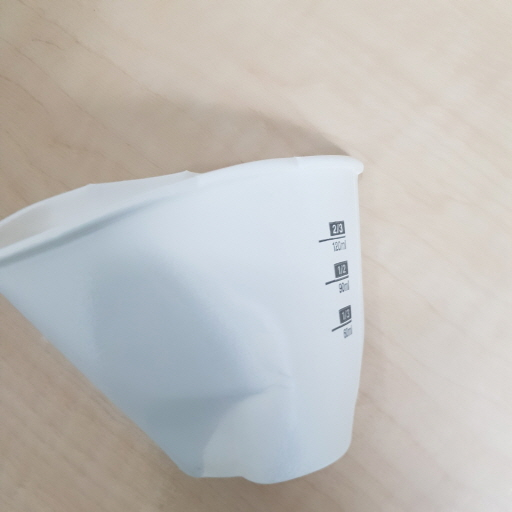Paper_1: (3, 152, 370, 484)
